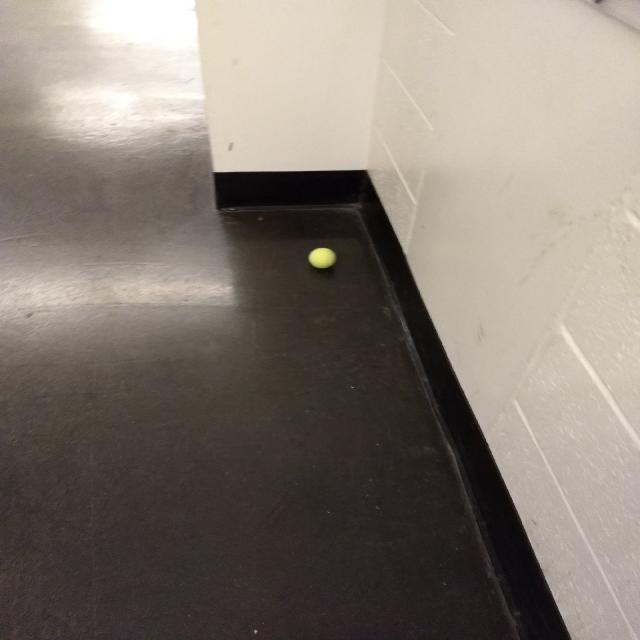Tennis-Ball: (304, 243, 340, 274)
